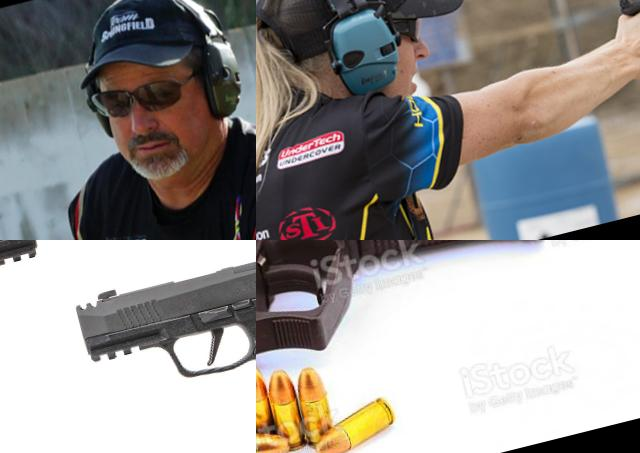handgun: (256, 240, 590, 453), (70, 240, 256, 453), (0, 240, 163, 453)
